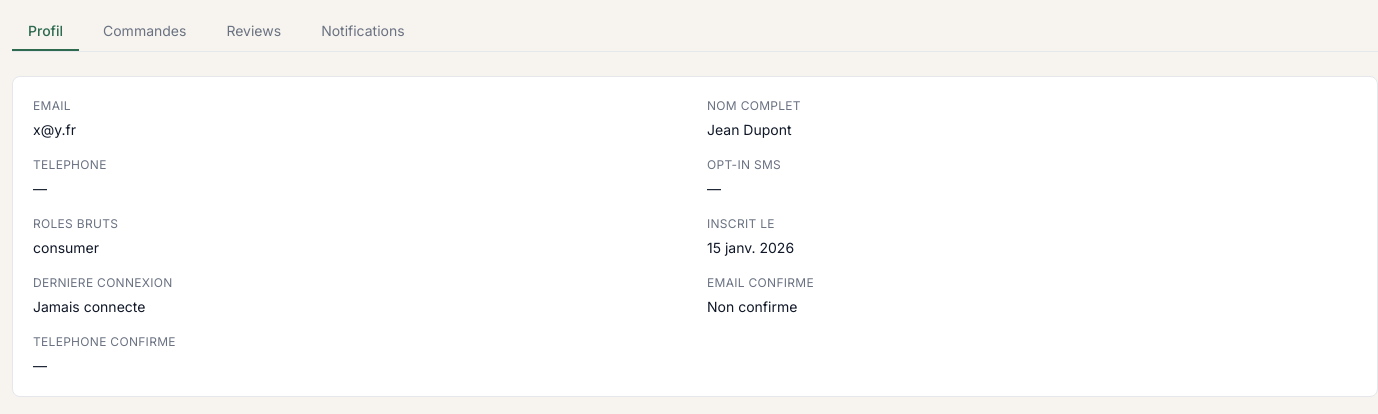
Scenario: UserDetailTabs — clic onglet Notifications › notificationsError -> message d'erreur affiche
The width and height of the screenshot is (1378, 414).
Click the tab "Notifications". click: (363, 32)
box: [305,12,421,51]
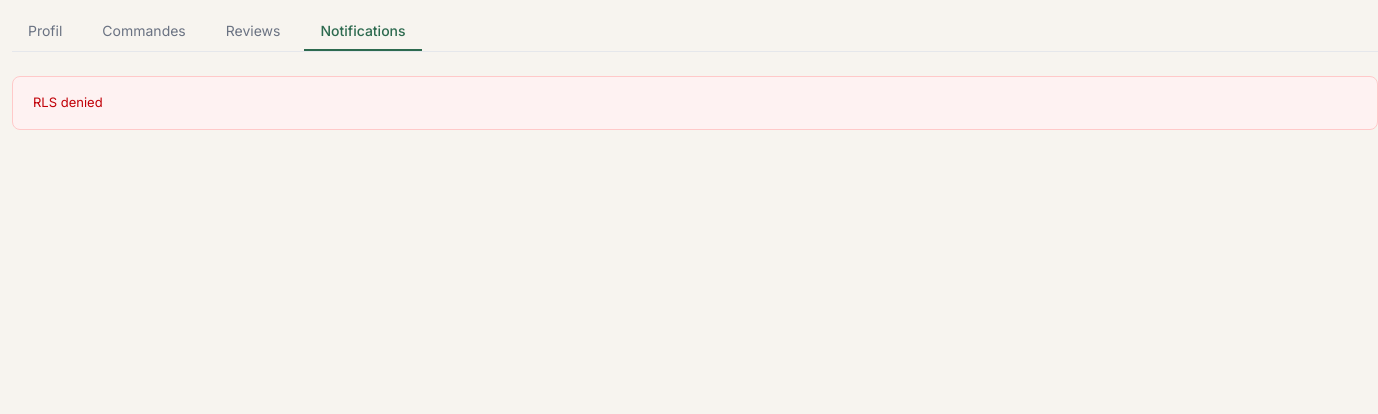
Check: the text "RLS denied" is shown, box [12,76,1377,130]
